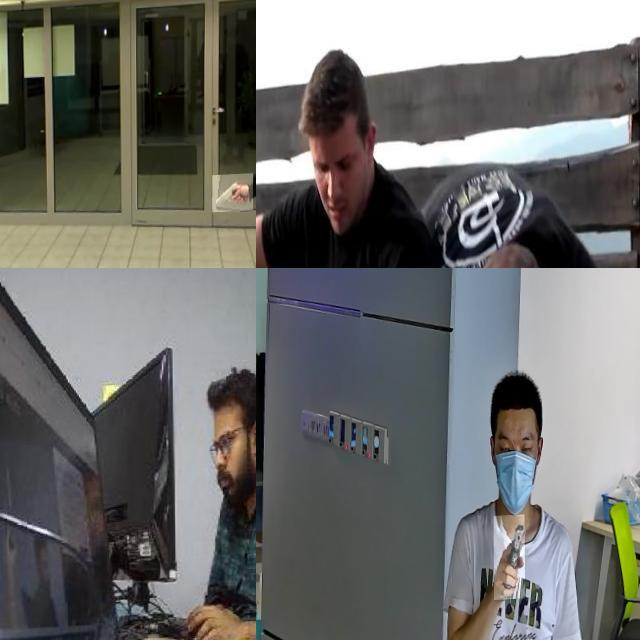gun-knife-thesis - v11 Yolov5 augmented: (493, 518, 524, 603), (212, 178, 252, 218)
